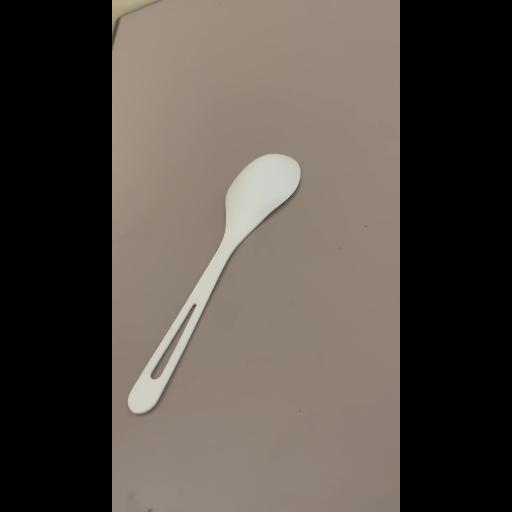utensil: (125, 146, 307, 414)
